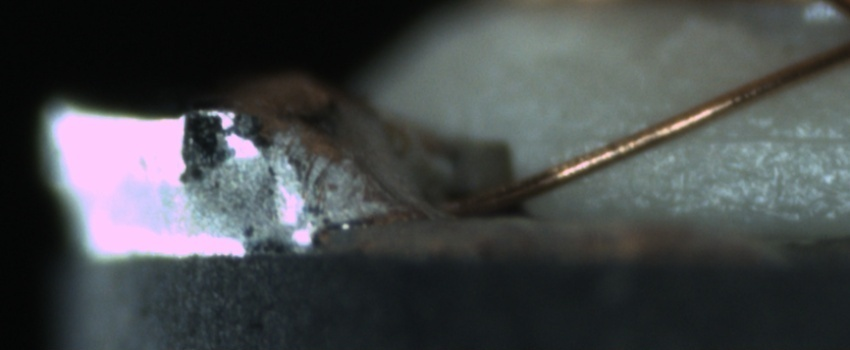DL: (563, 108, 850, 168)
